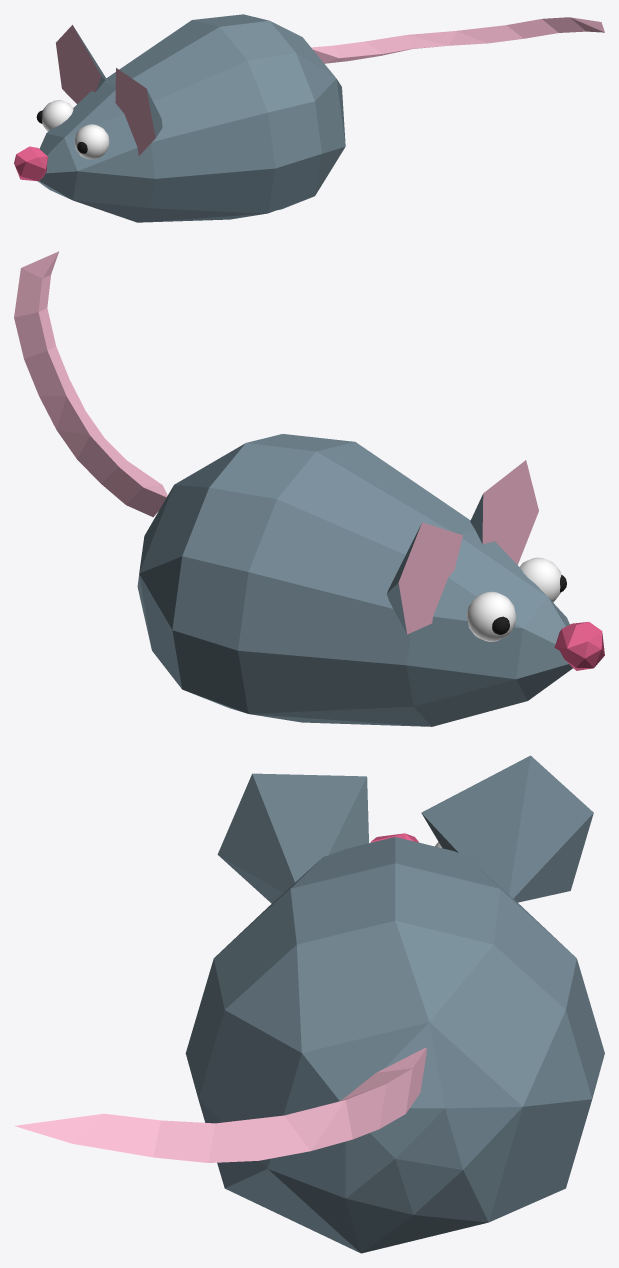
Rendered from toymouse.fbx.
3 views of the same model, one above another, from view 1: azimuth 30°, elevation 25°; view 2: azimuth 150°, elevation 25°; view 3: azimuth 270°, elevation 25° (orthographic). The views are drawn at different scales.
Parts seen in each view (by area): view 1: body, tail, ear_2, ear_1, nose, eye_1, eye_2; view 2: body, tail, ear_2, ear_1, nose, eye_2, eye_1; view 3: body, tail, ear_2, ear_1.
Part boxes in pixels (left/top/right/bottom): body: left=38, top=14, right=345, bottom=222; tail: left=311, top=17, right=604, bottom=63; ear_2: left=56, top=25, right=105, bottom=103; ear_1: left=115, top=68, right=162, bottom=155; nose: left=14, top=146, right=47, bottom=181; eye_1: left=74, top=124, right=109, bottom=159; eye_2: left=42, top=100, right=73, bottom=131; body: left=137, top=434, right=572, bottom=726; tail: left=14, top=251, right=167, bottom=517; ear_2: left=387, top=522, right=462, bottom=634; ear_1: left=470, top=460, right=538, bottom=564; nose: left=554, top=622, right=604, bottom=670; eye_2: left=466, top=591, right=516, bottom=641; eye_1: left=520, top=557, right=561, bottom=602; body: left=185, top=837, right=604, bottom=1253; tail: left=15, top=1047, right=426, bottom=1162; ear_2: left=421, top=755, right=593, bottom=902; ear_1: left=217, top=773, right=368, bottom=903.
Bounding box in the file's own units: 0.5867 × 0.1947 × 0.3193.
